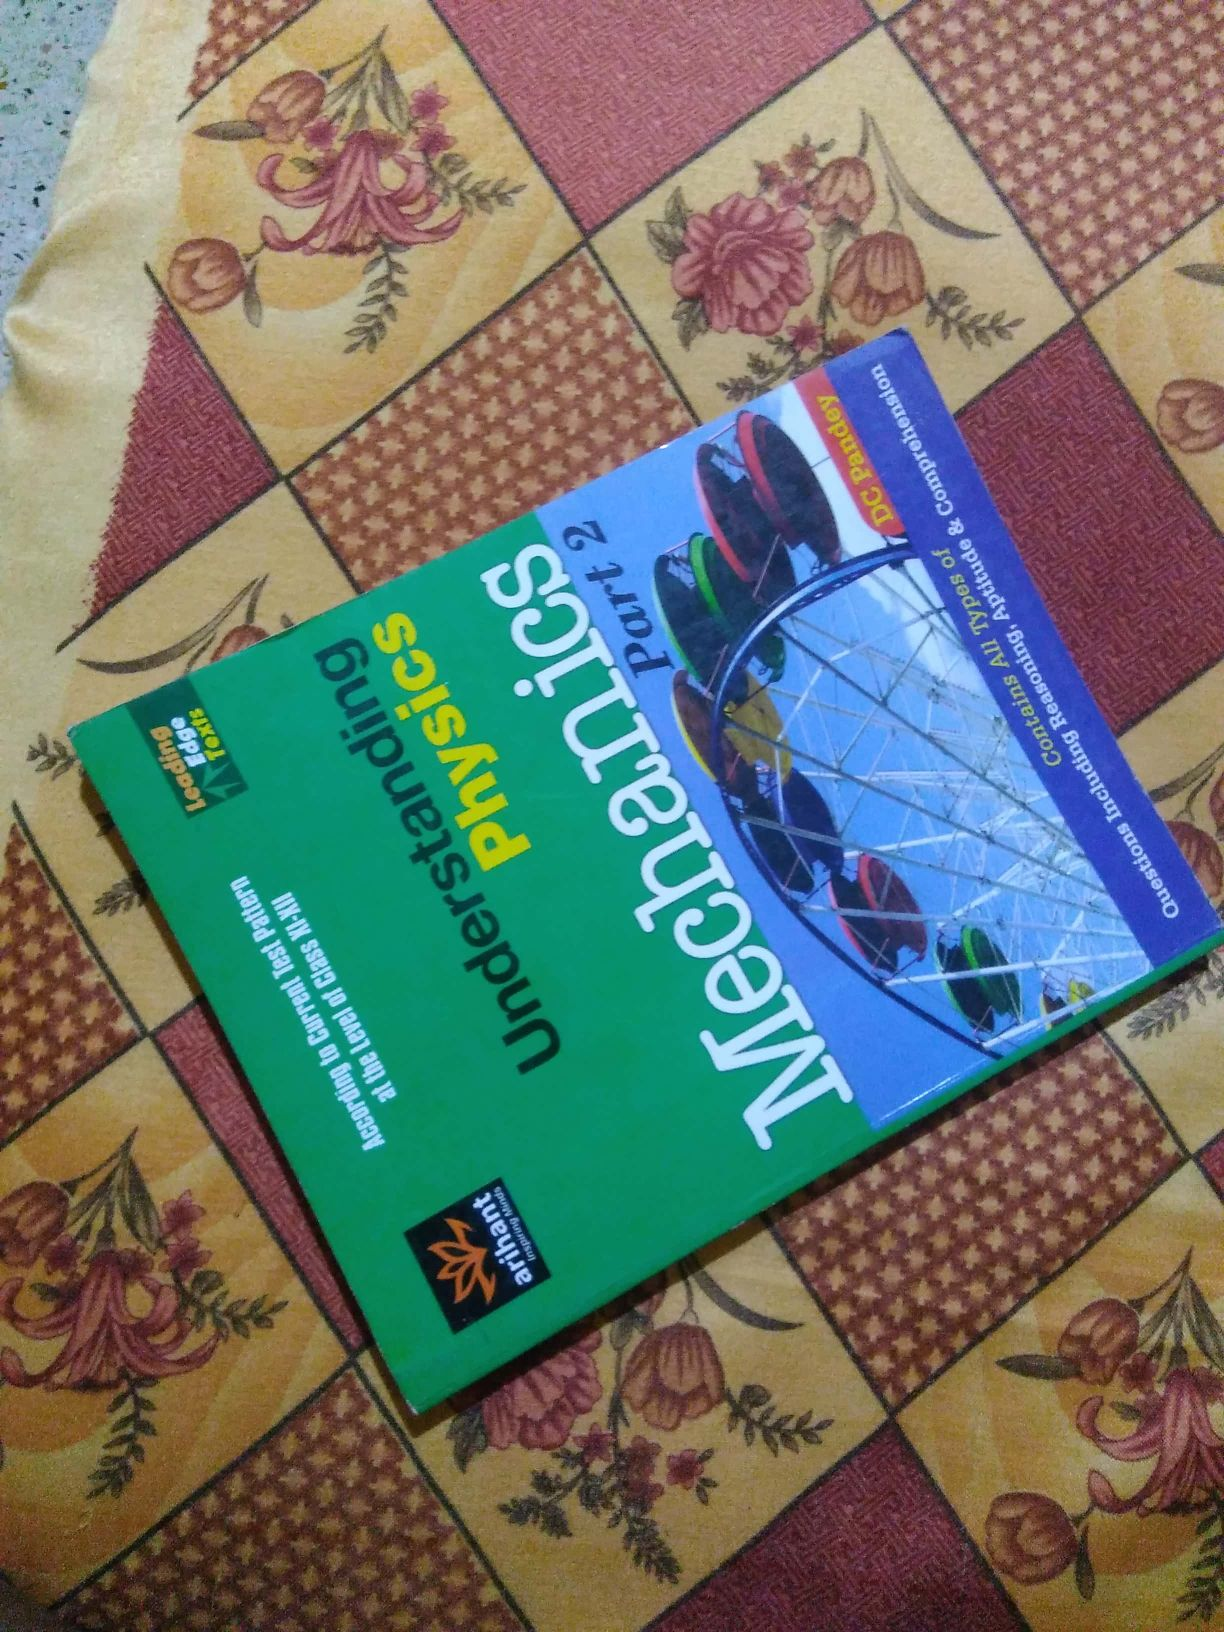mechanics: (129, 395, 1156, 1354)
